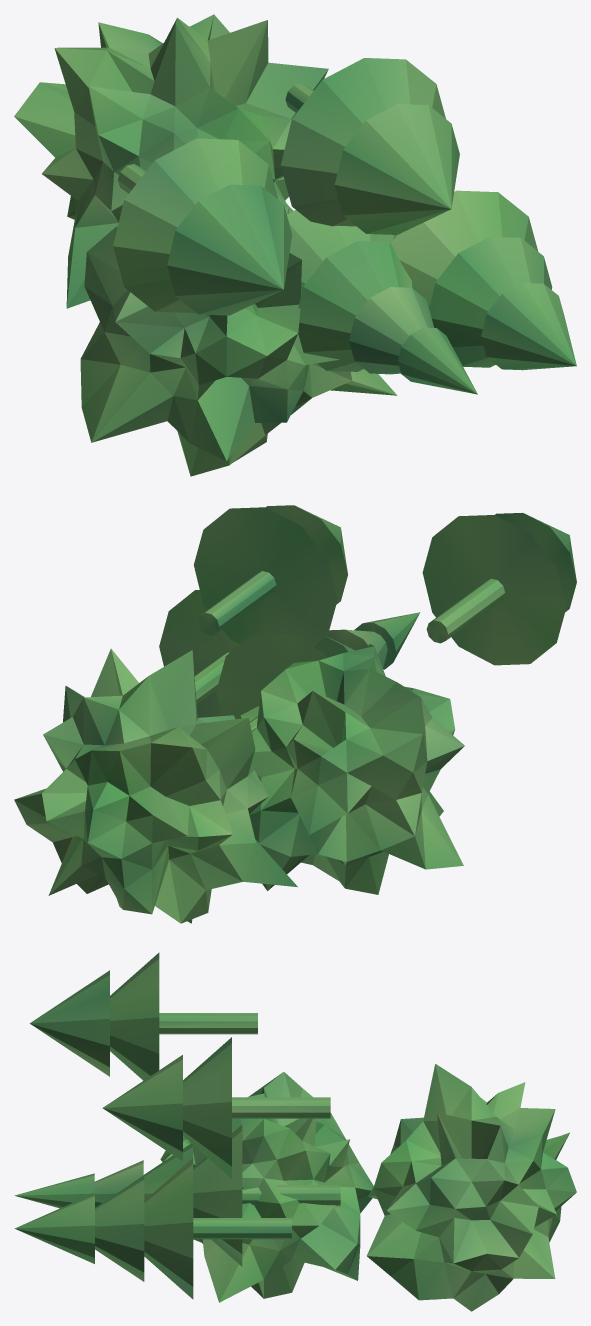
The picture shows the model from 3 angles, top to bottom: view 1: azimuth 30°, elevation 25°; view 2: azimuth 150°, elevation 25°; view 3: azimuth 270°, elevation 25°; orthographic projection. The views are drawn at different scales.
Parts seen in each view (by area): view 1: geometry_0; view 2: geometry_0; view 3: geometry_0.
Boxes of the visible parts, <box> form: geometry_0: <box>14,14,576,476</box>; geometry_0: <box>14,505,576,923</box>; geometry_0: <box>14,952,576,1311</box>.
Bounding box in the file's own units: 4.31 × 3.71 × 6.29.
